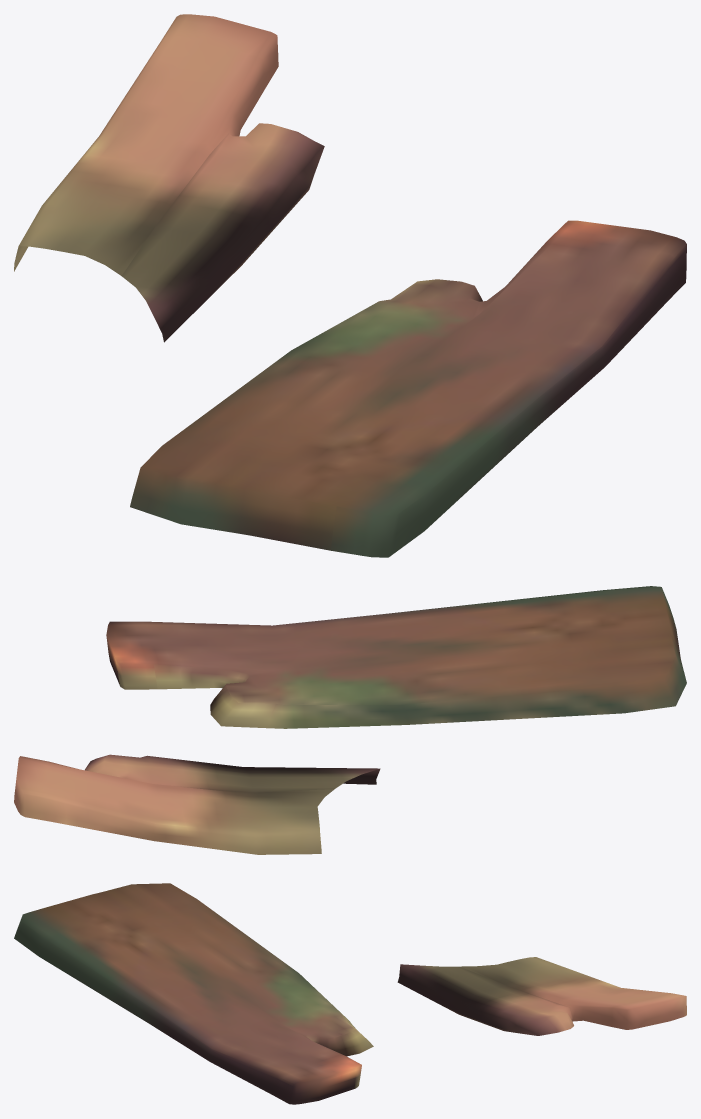
File: Beach_Details_2.glb
The picture shows the model from 3 angles, top to bottom: view 1: azimuth 30°, elevation 25°; view 2: azimuth 150°, elevation 25°; view 3: azimuth 270°, elevation 25°; orthographic projection. The views are drawn at different scales.
Visible parts, largest first — view 1: Object_2.023; view 2: Object_2.023; view 3: Object_2.023.
Part boxes in pixels (<box>): Object_2.023: <box>14,14,686,557</box>; Object_2.023: <box>14,586,686,854</box>; Object_2.023: <box>14,883,686,1104</box>.
Size of the model in its own units: 10.07 by 1.51 by 14.26.
1 material, 1 textured.
